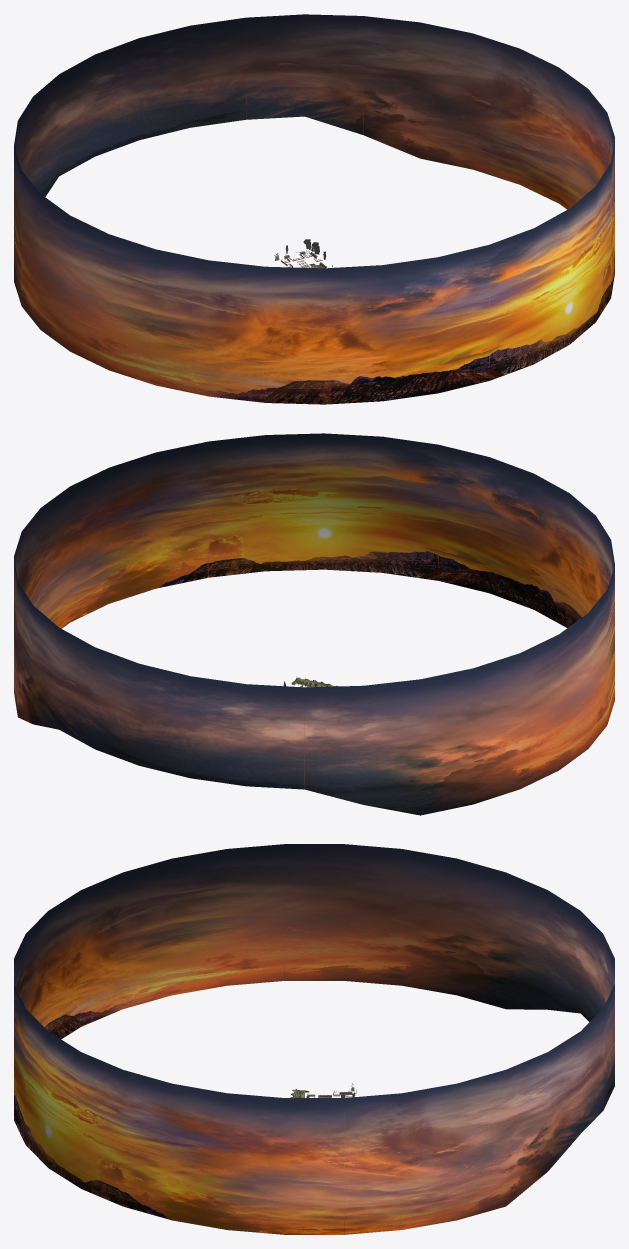
Rendered from stage_m030.glb.
The picture shows the model from 3 angles, top to bottom: view 1: azimuth 30°, elevation 25°; view 2: azimuth 150°, elevation 25°; view 3: azimuth 270°, elevation 25°; orthographic projection.
Parts seen in each view (by area): view 1: g0p125, g0p126, g0p122, g0p120, g0p124, g0p121, g0p127, g0p123, g0p128; view 2: g0p124, g0p128, g0p123, g0p120, g0p125, g0p127, g0p121, g0p126, g0p122; view 3: g0p123, g0p126, g0p122, g0p128, g0p127, g0p124, g0p125, g0p121, g0p120.
Part boxes in pixels (<box>): g0p125: <box>265,244,489,404</box>; g0p126: <box>70,215,265,402</box>; g0p122: <box>363,16,558,203</box>; g0p120: <box>59,17,245,176</box>; g0p124: <box>489,163,610,380</box>; g0p121: <box>246,14,363,134</box>; g0p127: <box>21,170,69,351</box>; g0p123: <box>559,67,614,297</box>; g0p128: <box>14,75,58,305</box>; g0p124: <box>208,433,438,580</box>; g0p128: <box>304,653,519,815</box>; g0p123: <box>40,441,208,628</box>; g0p120: <box>95,647,304,789</box>; g0p125: <box>438,445,595,627</box>; g0p127: <box>520,613,588,789</box>; g0p121: <box>33,605,94,748</box>; g0p126: <box>588,516,614,748</box>; g0p122: <box>14,508,40,723</box>; g0p123: <box>123,1070,344,1234</box>; g0p126: <box>81,844,284,1026</box>; g0p122: <box>344,1052,547,1234</box>; g0p128: <box>402,849,580,1013</box>; g0p127: <box>284,844,401,985</box>; g0p124: <box>14,984,122,1206</box>; g0p125: <box>14,890,80,1039</box>; g0p121: <box>548,1008,603,1170</box>; g0p120: <box>580,911,614,1110</box>.
Size of the model in its own units: 3981 by 1000 by 3981.
Materials: 70 (70 with a texture image).
